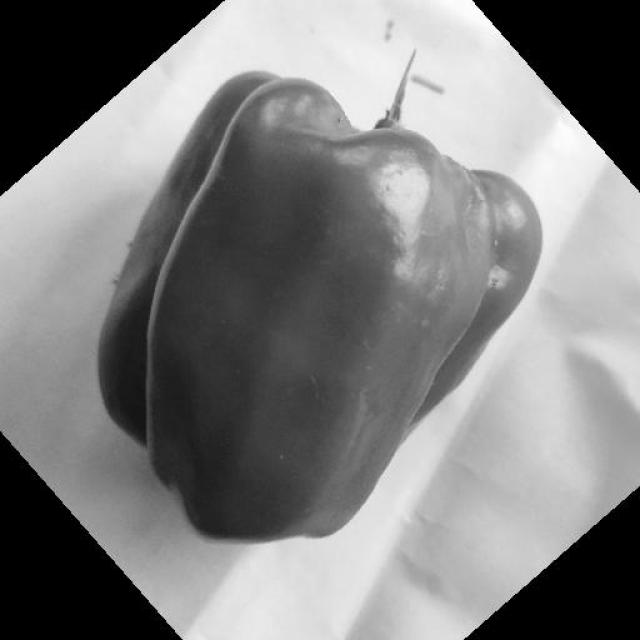Fresh_Capsicum: (136, 73, 495, 505)
